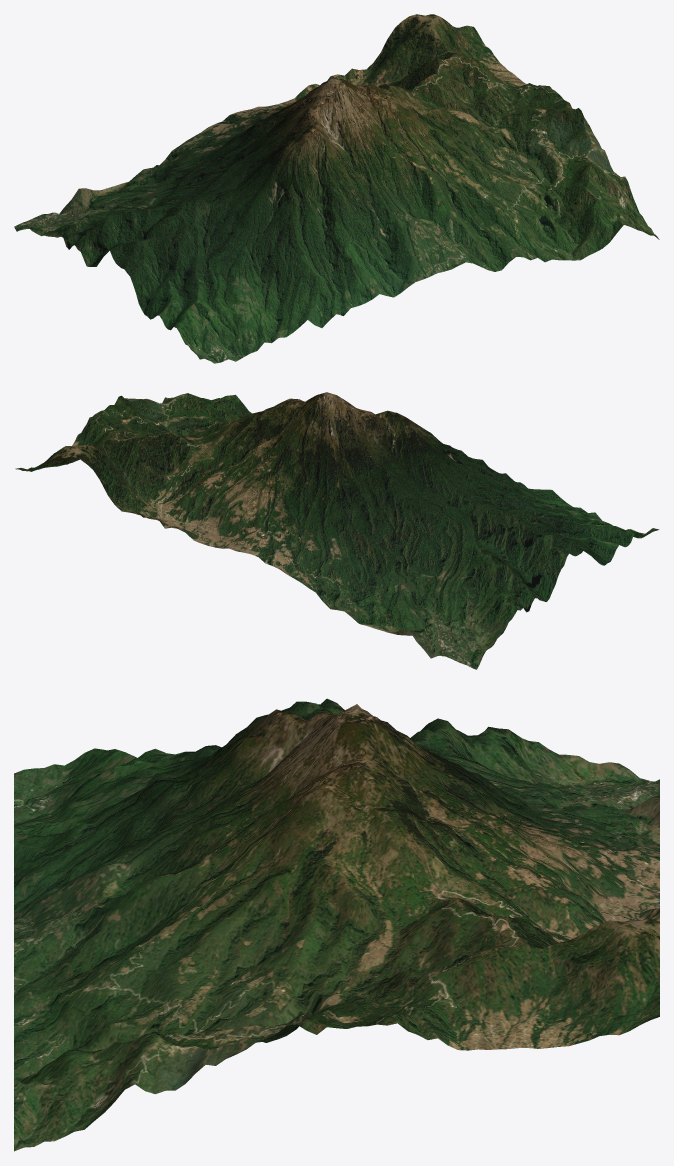
File: tacana_volcano.glb
3 views of the same model, one above another, from view 1: azimuth 30°, elevation 25°; view 2: azimuth 150°, elevation 25°; view 3: azimuth 270°, elevation 25° (orthographic). The views are drawn at different scales.
Parts seen in each view (by area): view 1: EXPORT_ESRI_AERIAL_WM; view 2: EXPORT_ESRI_AERIAL_WM; view 3: EXPORT_ESRI_AERIAL_WM.
Part boxes in pixels (bbox=[...]): EXPORT_ESRI_AERIAL_WM: bbox=[14, 14, 659, 363]; EXPORT_ESRI_AERIAL_WM: bbox=[15, 392, 659, 669]; EXPORT_ESRI_AERIAL_WM: bbox=[14, 698, 659, 1151].
Bounding box in the file's own units: 12230 × 4146 × 8561.
Materials: 1 (1 with a texture image).
